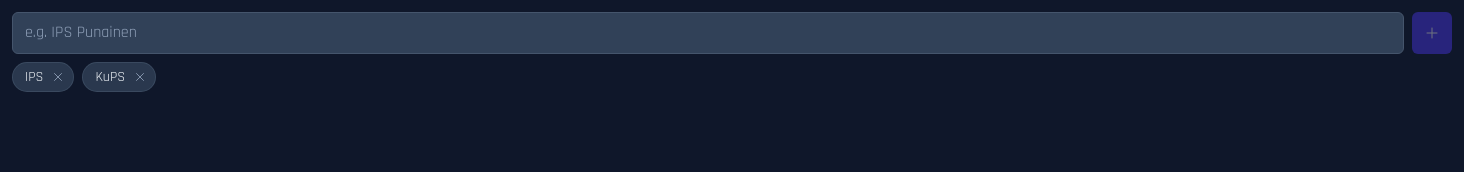
OpponentListEditor › removes a team
The width and height of the screenshot is (1464, 172).
Click the button named "Remove IPS": x=58, y=77 [49,68,67,86]
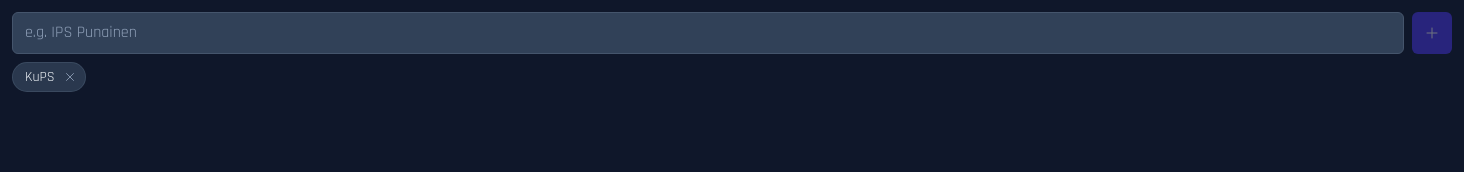
Check: the list with test id "opponent-list" no longer shows "IPS", box [12,62,86,92]
Check: the list with test id "opponent-list" reads "KuPS", box [25,68,55,86]
